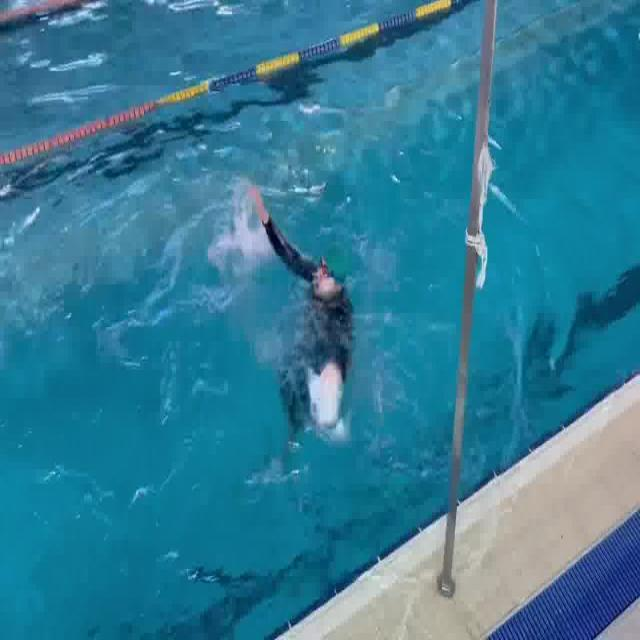Drowning: (227, 170, 388, 449)
